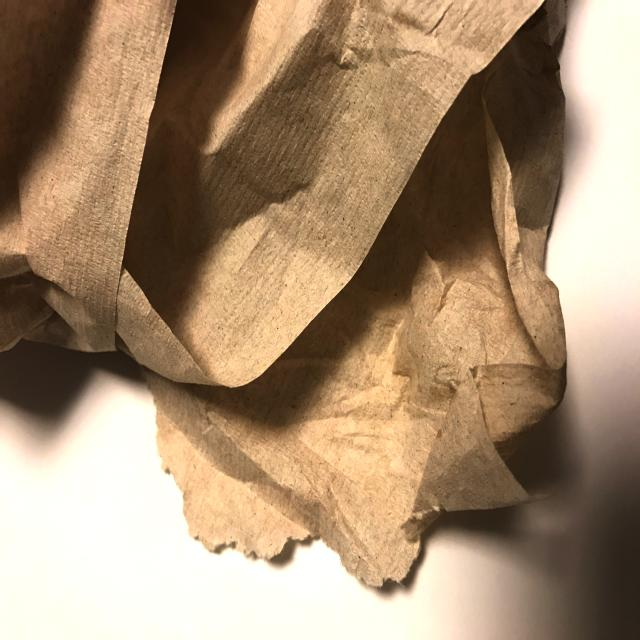Paper: (0, 0, 569, 590)
